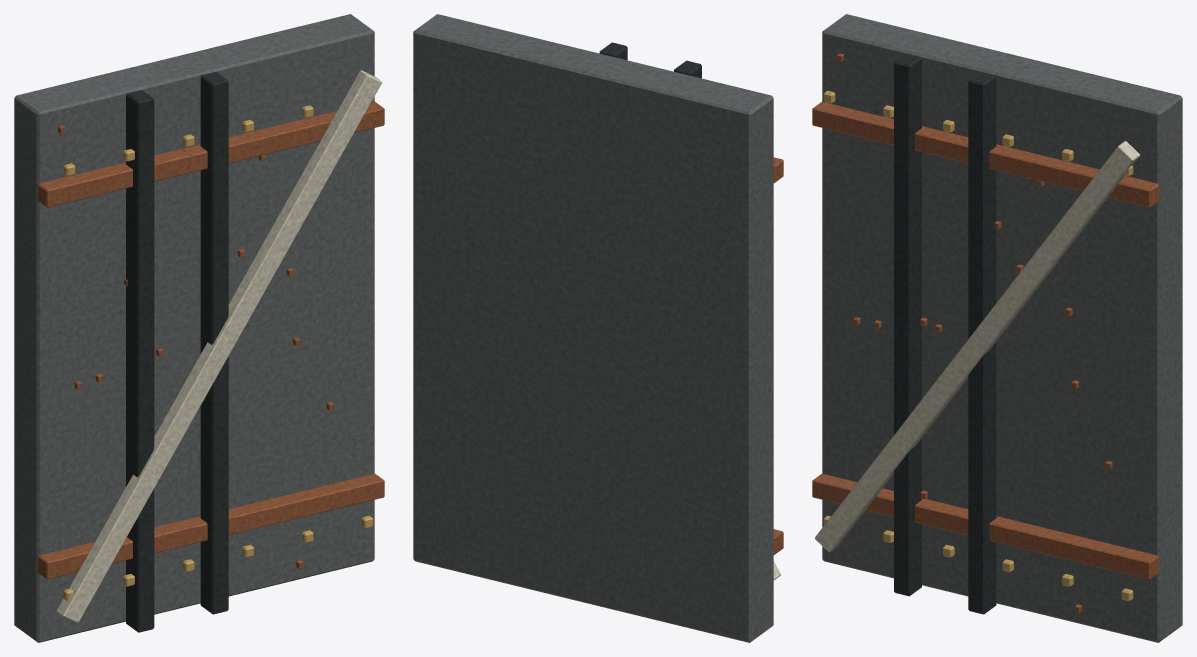
The model's file is METL21CC_lod0.glb.
3 renders of one model, left to right at view 1: azimuth 30°, elevation 25°; view 2: azimuth 150°, elevation 25°; view 3: azimuth 330°, elevation 25°, orthographic.
Parts seen in each view (by area): view 1: METL21CC_LOD0; view 2: METL21CC_LOD0; view 3: METL21CC_LOD0.
Part boxes in pixels (left/top/right/bottom): METL21CC_LOD0: left=14, top=14, right=384, bottom=642; METL21CC_LOD0: left=413, top=14, right=783, bottom=642; METL21CC_LOD0: left=812, top=14, right=1182, bottom=642.
Size of the model in its own units: 2 by 3 by 0.42.
Materials: 5 (4 with a texture image).
